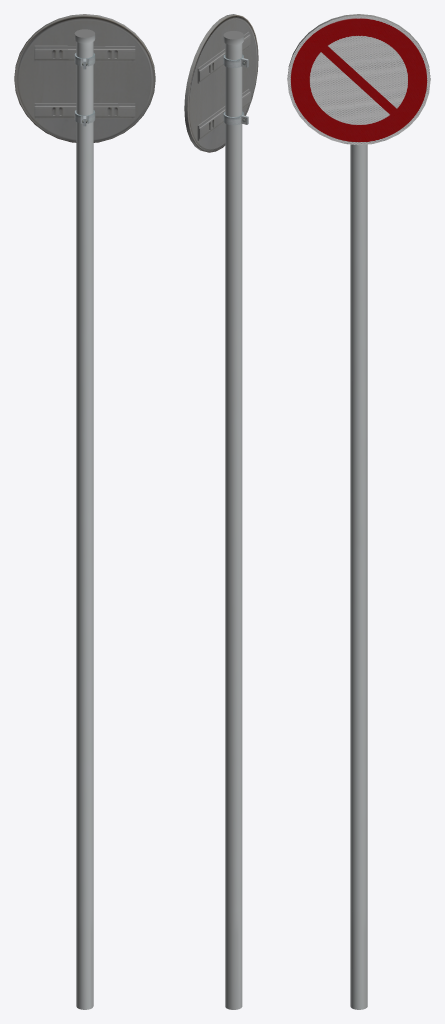
File: Preset_Sign302.fbx
3 renders of one model, left to right at view 1: azimuth 90°, elevation 25°; view 2: azimuth 150°, elevation 25°; view 3: azimuth 270°, elevation 25°, orthographic.
Visible parts, largest first — view 1: Sign_PoleV, Sign_Backface, Sign_BackArm; view 2: Sign_PoleV, Sign_Backface, Sign_BackArm; view 3: Sign_PoleV, Sign302.
Part boxes in pixels (bbox=[...]): Sign_PoleV: bbox=[74, 29, 95, 1009]; Sign_Backface: bbox=[14, 14, 155, 142]; Sign_BackArm: bbox=[34, 45, 135, 126]; Sign_PoleV: bbox=[223, 31, 243, 1009]; Sign_Backface: bbox=[184, 14, 258, 152]; Sign_BackArm: bbox=[197, 31, 250, 140]; Sign_PoleV: bbox=[350, 144, 367, 1009]; Sign302: bbox=[287, 15, 430, 145].
Size of the model in its own units: 9.26 by 39.98 by 307.
Materials: 4 (4 with a texture image).
